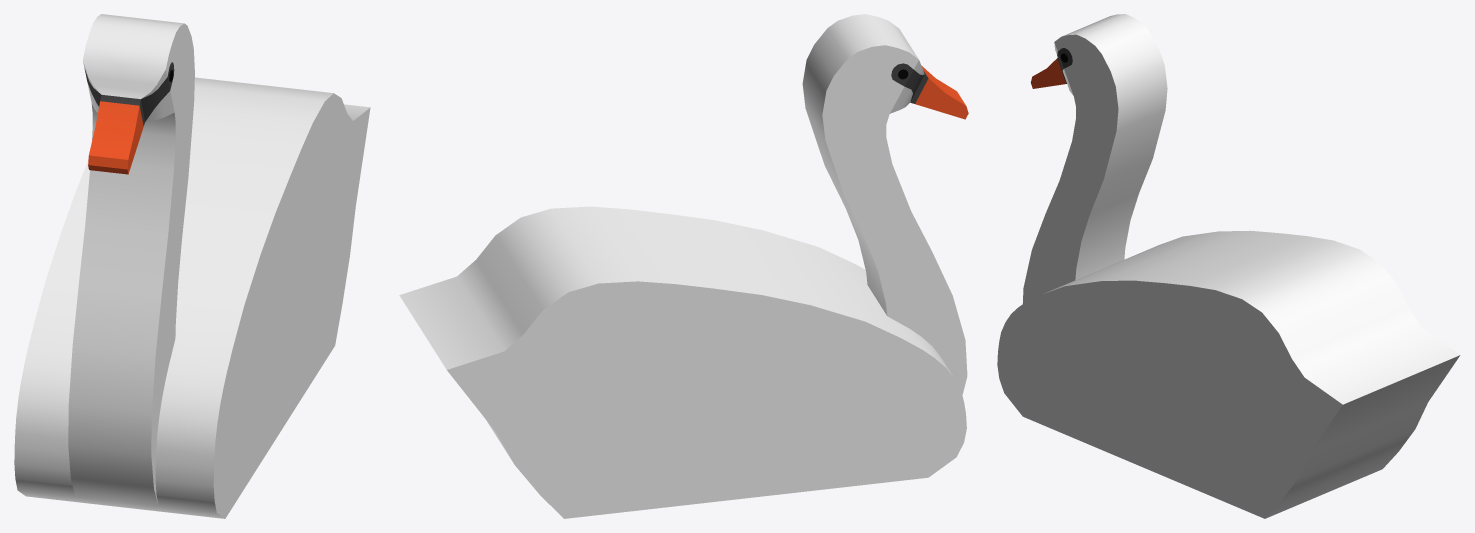
File: swan.glb
The picture shows the model from 3 angles, left to right: view 1: azimuth 30°, elevation 25°; view 2: azimuth 150°, elevation 25°; view 3: azimuth 270°, elevation 25°; orthographic projection. The views are drawn at different scales.
Visible parts, largest first — view 1: Plane.107; view 2: Plane.107; view 3: Plane.107.
Boxes of the visible parts, x1,y1,x2,y2 form: Plane.107: [14, 14, 370, 518]; Plane.107: [399, 14, 968, 518]; Plane.107: [997, 14, 1460, 518].
Bounding box in the file's own units: 2.05 × 1.84 × 2.05.
1 material, 1 textured.
